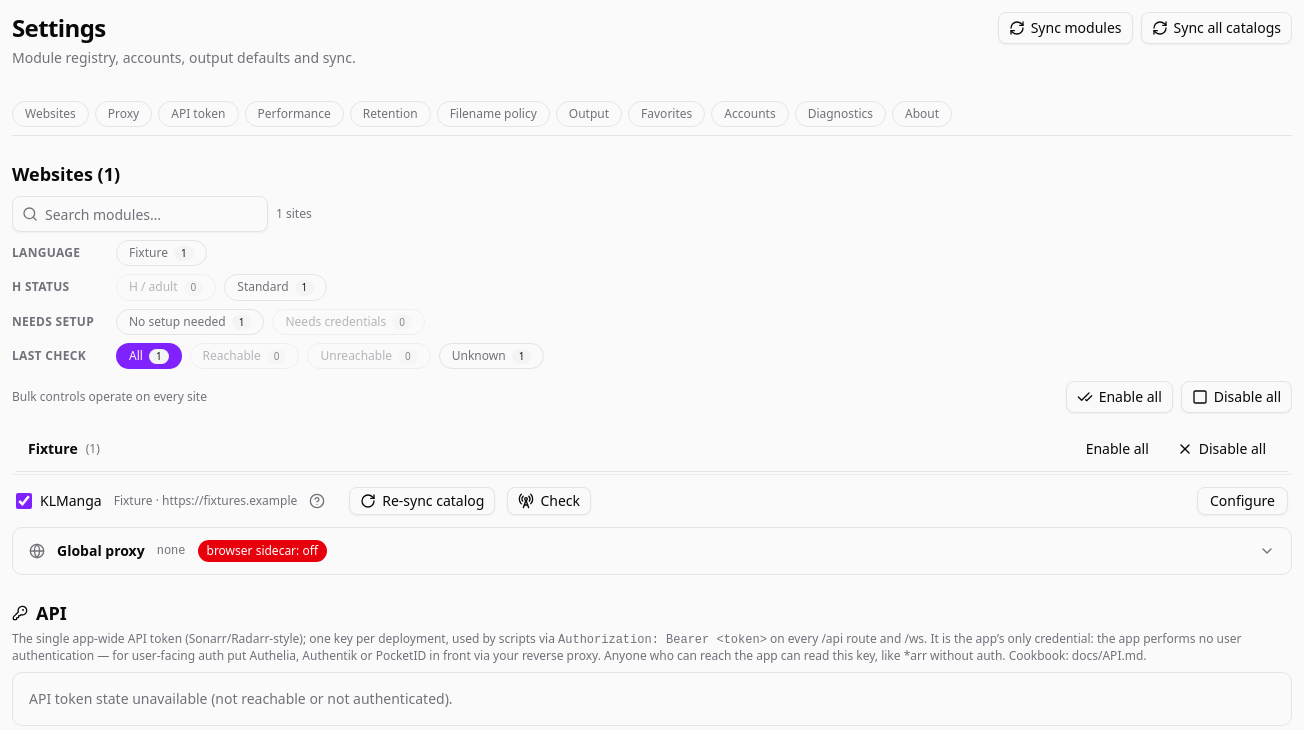
Test: SettingsPage D20 bootstrap empty state › surfaces tolerated upstream-broken files (failures[]) from the sync summary
Click the button "Sync modules" at (1065, 28), box [998,12,1133,44]
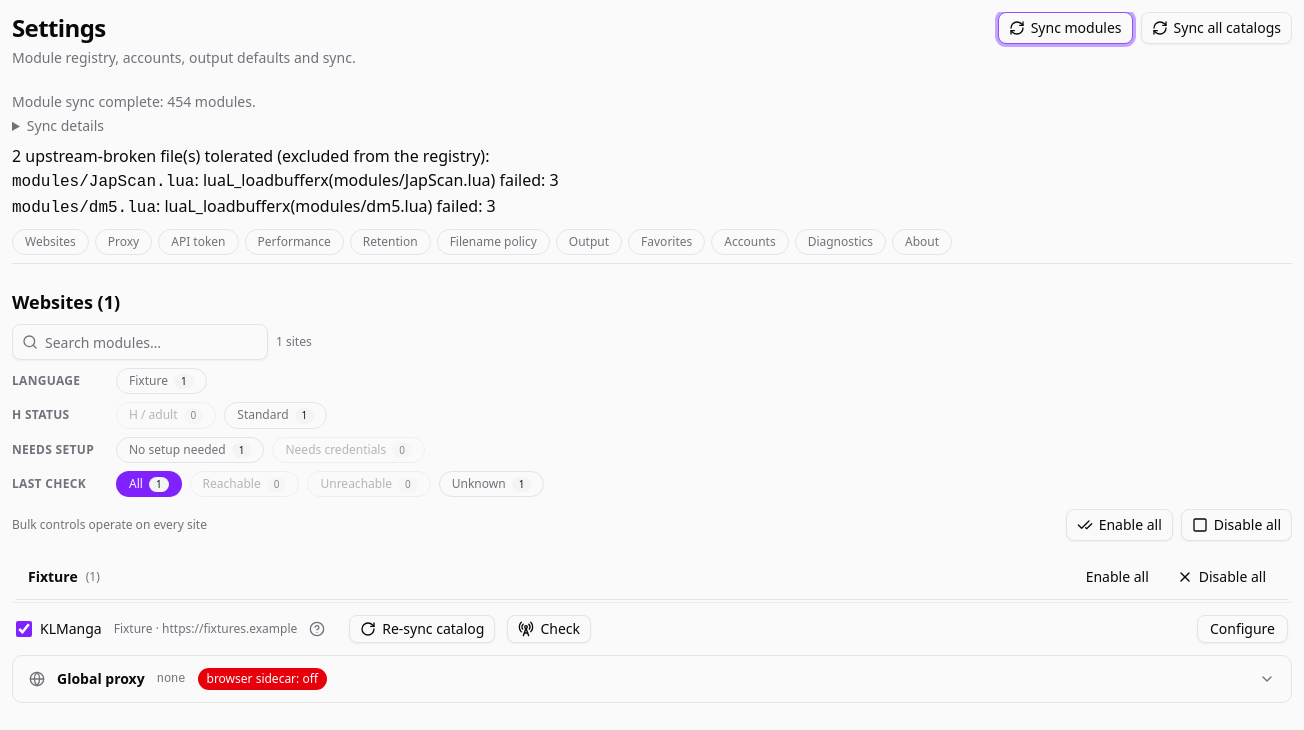
Now the text "Module sync complete: 454 modules." is shown, box [12,92,256,111]
Now the text "2 upstream-broken file(s) tolerated" is shown, box [12,145,489,167]
Now the list named "Tolerated broken module files" shows "modules/JapScan.lua", box [12,173,194,191]
